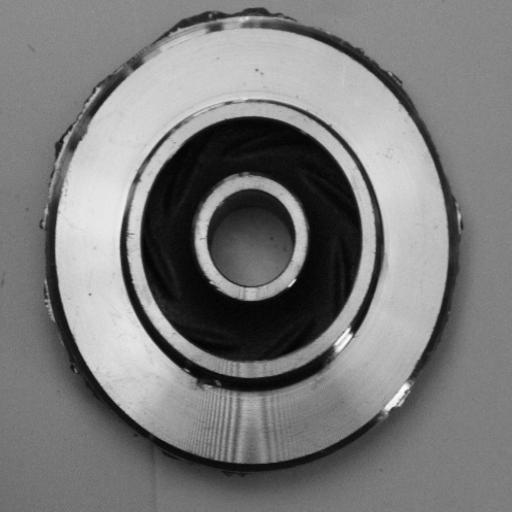casting_with_burr: (39, 5, 461, 479)
crack: (184, 356, 239, 399)
scratch: (168, 92, 274, 127), (318, 319, 365, 369)
